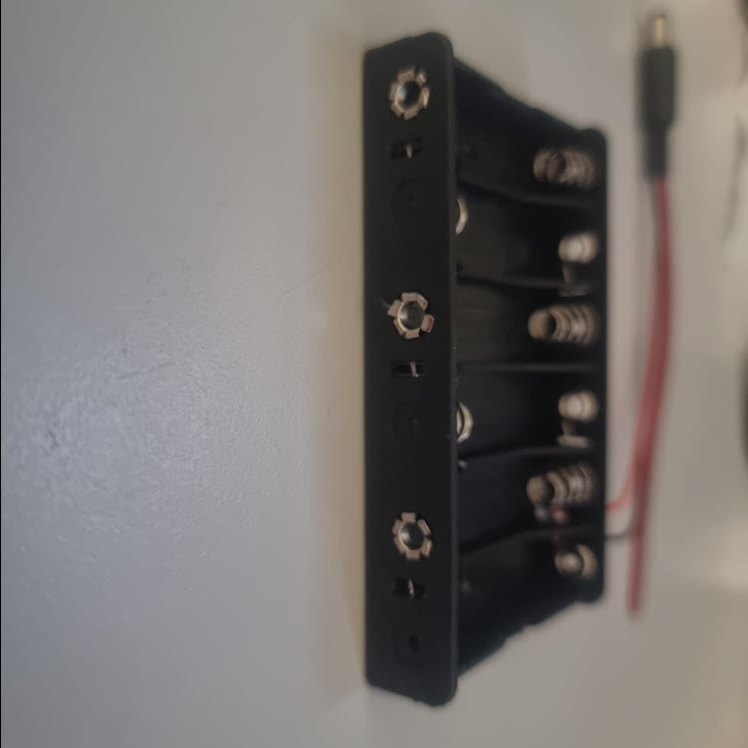BATTERY BOX: (358, 38, 618, 708)
